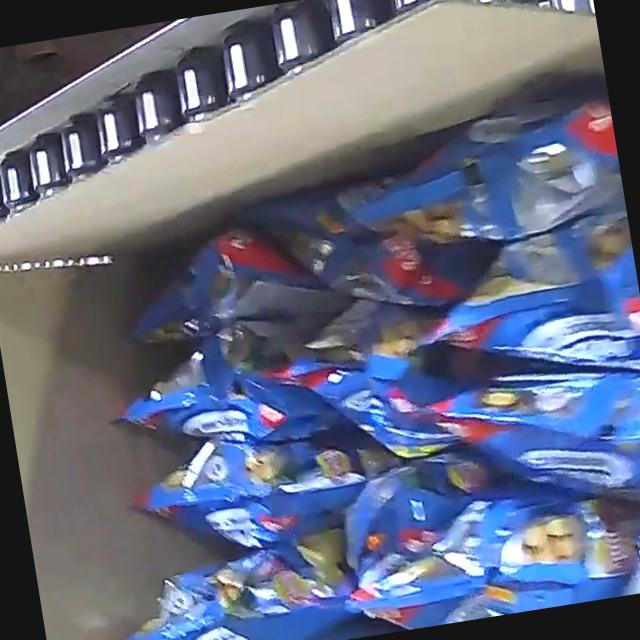paprika: (37, 83, 640, 640)
